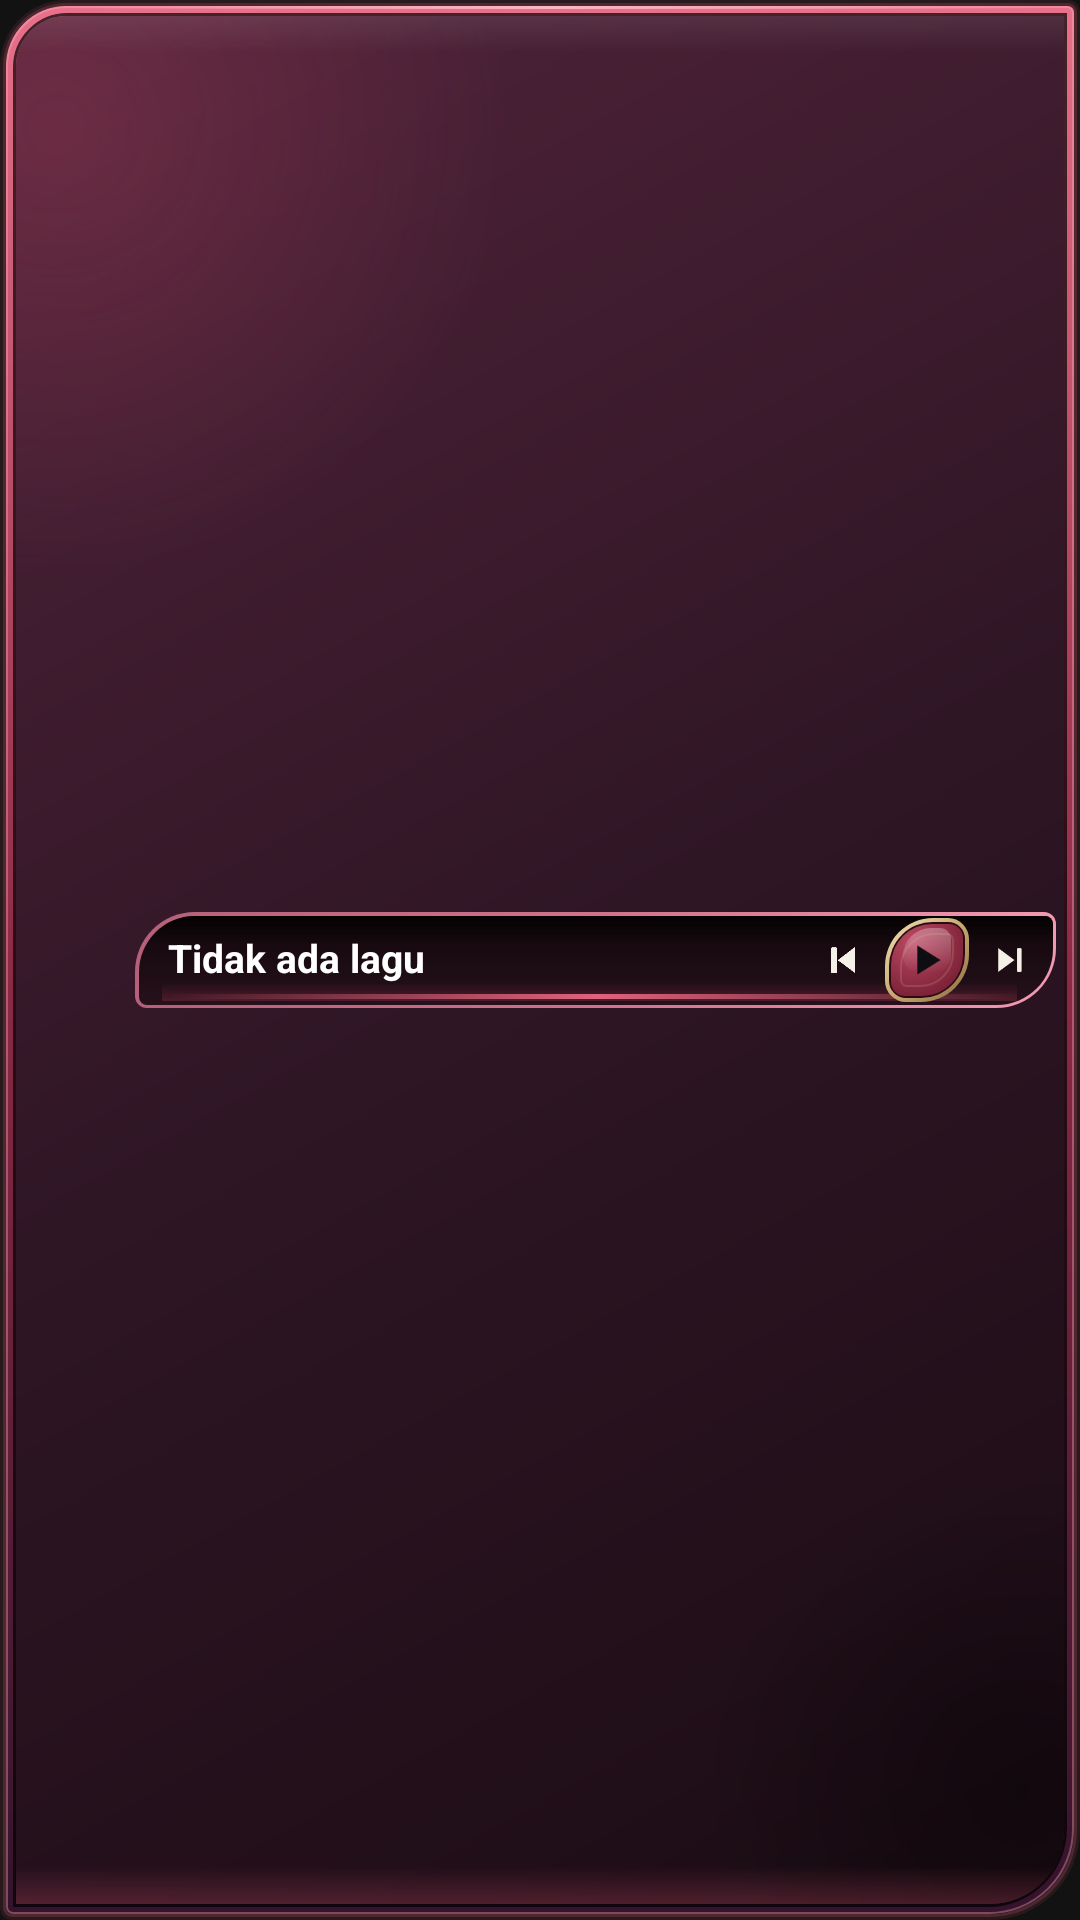

Locate icon controls on the screen. Image size 1080 x 1920, boxes as (x1, y1, x2, y2).
Berikutnya: (998, 948, 1022, 972)
Putar: (885, 918, 969, 1002)
Sebelumnya: (831, 947, 855, 973)
